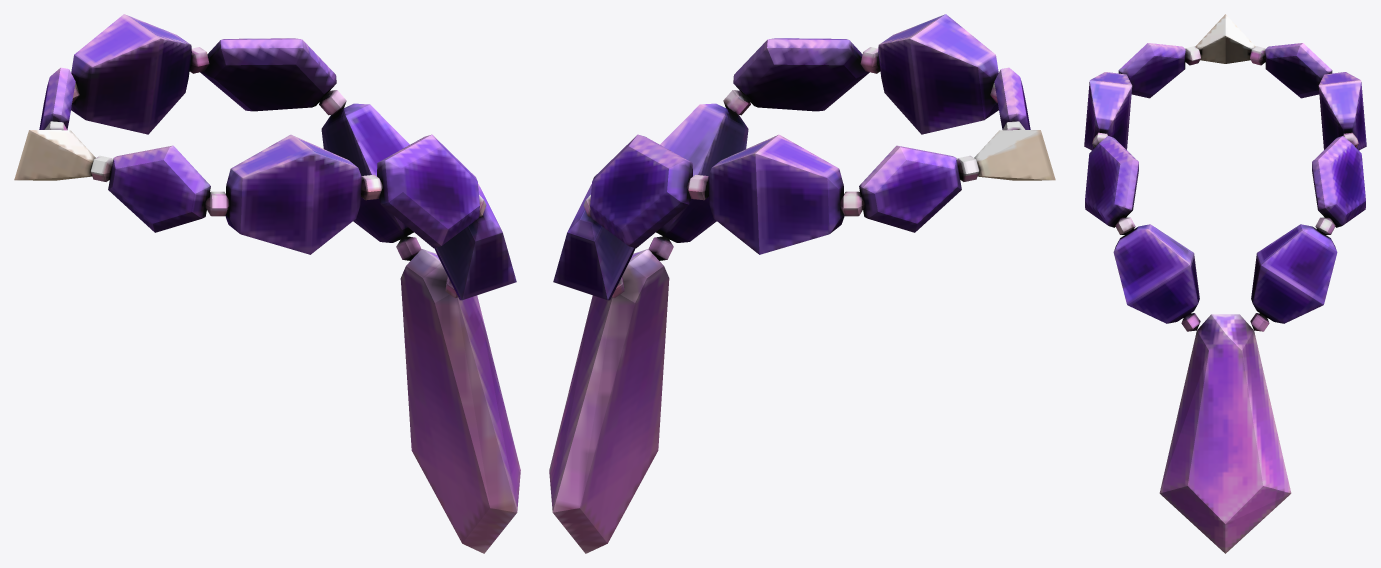
The model's file is CRYSTAL NECKLACE.fbx.
3 renders of one model, left to right at view 1: azimuth 30°, elevation 25°; view 2: azimuth 150°, elevation 25°; view 3: azimuth 270°, elevation 25°, orthographic. The views are drawn at different scales.
Parts seen in each view (by area): view 1: CRYSTAL_NECKLACE, CrystalNecklaceGem; view 2: CRYSTAL_NECKLACE, CrystalNecklaceGem; view 3: CRYSTAL_NECKLACE, CrystalNecklaceGem.
Boxes of the visible parts, x1,y1,x2,y2 form: CRYSTAL_NECKLACE: [14, 14, 516, 300]; CrystalNecklaceGem: [400, 249, 520, 553]; CRYSTAL_NECKLACE: [553, 14, 1055, 300]; CrystalNecklaceGem: [549, 249, 669, 553]; CRYSTAL_NECKLACE: [1084, 14, 1366, 331]; CrystalNecklaceGem: [1159, 314, 1291, 553].
Bounding box in the file's own units: 30.53 × 32.05 × 21.45.
